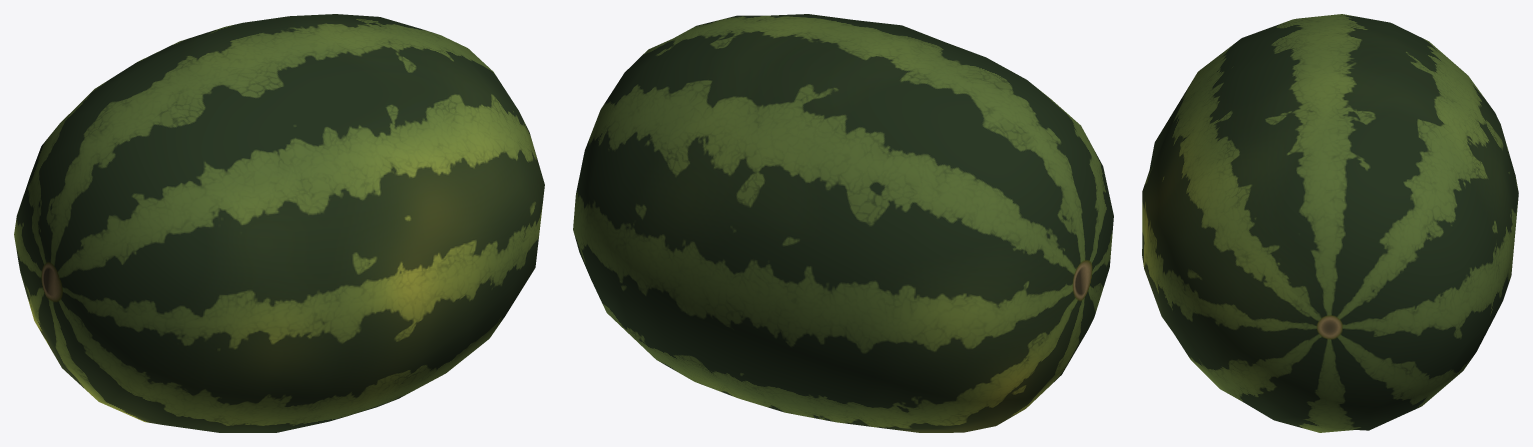
File: watermelon.glb
The picture shows the model from 3 angles, left to right: view 1: azimuth 30°, elevation 25°; view 2: azimuth 150°, elevation 25°; view 3: azimuth 270°, elevation 25°; orthographic projection. The views are drawn at different scales.
Parts seen in each view (by area): view 1: WaterMelon low.002; view 2: WaterMelon low.002; view 3: WaterMelon low.002.
Boxes of the visible parts, x1,y1,x2,y2 form: WaterMelon low.002: (14,14,544,432); WaterMelon low.002: (573,14,1113,432); WaterMelon low.002: (1142,14,1518,432).
Size of the model in its own units: 0.3399 by 0.2544 by 0.2573.
1 material, 1 textured.
